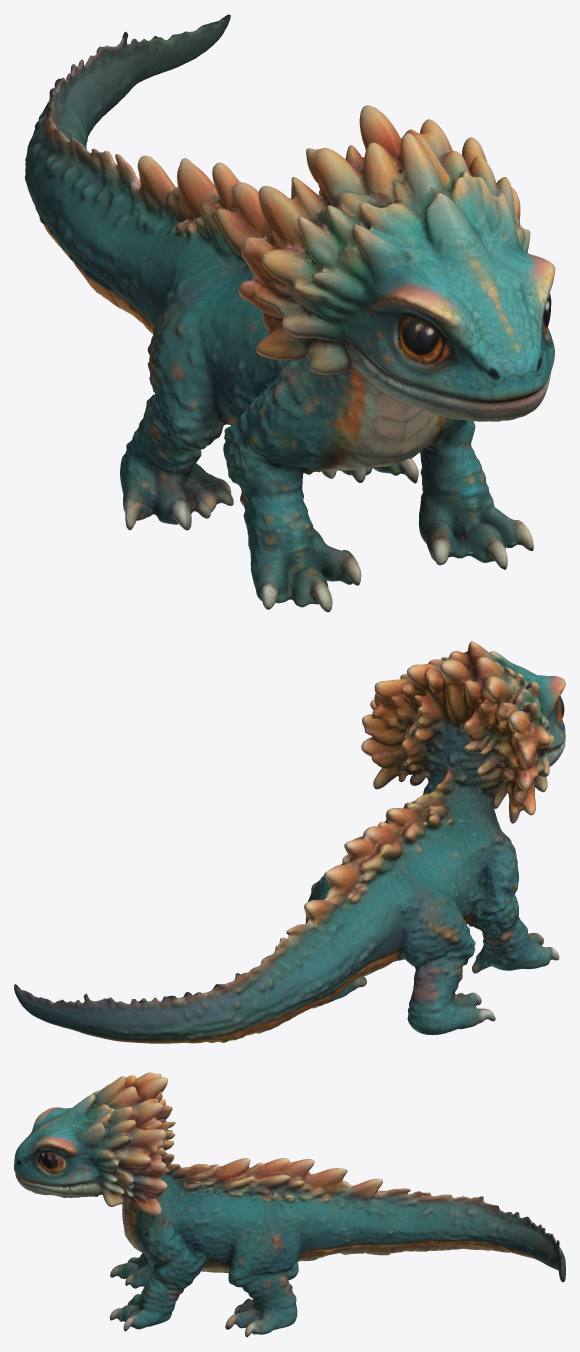
Rendered from coral-gecko-clean-high-v1.glb.
3 renders of one model, top to bottom at view 1: azimuth 30°, elevation 25°; view 2: azimuth 150°, elevation 25°; view 3: azimuth 270°, elevation 25°, orthographic. The views are drawn at different scales.
Visible parts, largest first — view 1: CoralGecko; view 2: CoralGecko; view 3: CoralGecko.
Part boxes in pixels (x1=…): CoralGecko: x1=24, y1=14, x2=555, y2=612; CoralGecko: x1=14, y1=641, x2=565, y2=1043; CoralGecko: x1=14, y1=1072, x2=565, y2=1337.
Bounding box in the file's own units: 0.8734 × 0.9137 × 2.
1 material, 1 textured.
